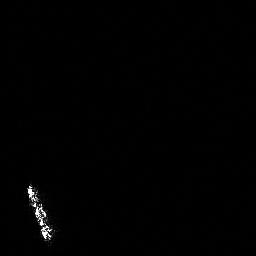ship: (23, 180, 61, 247)
